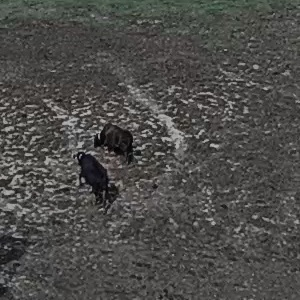cow: (59, 145, 114, 217), (87, 115, 147, 165)
